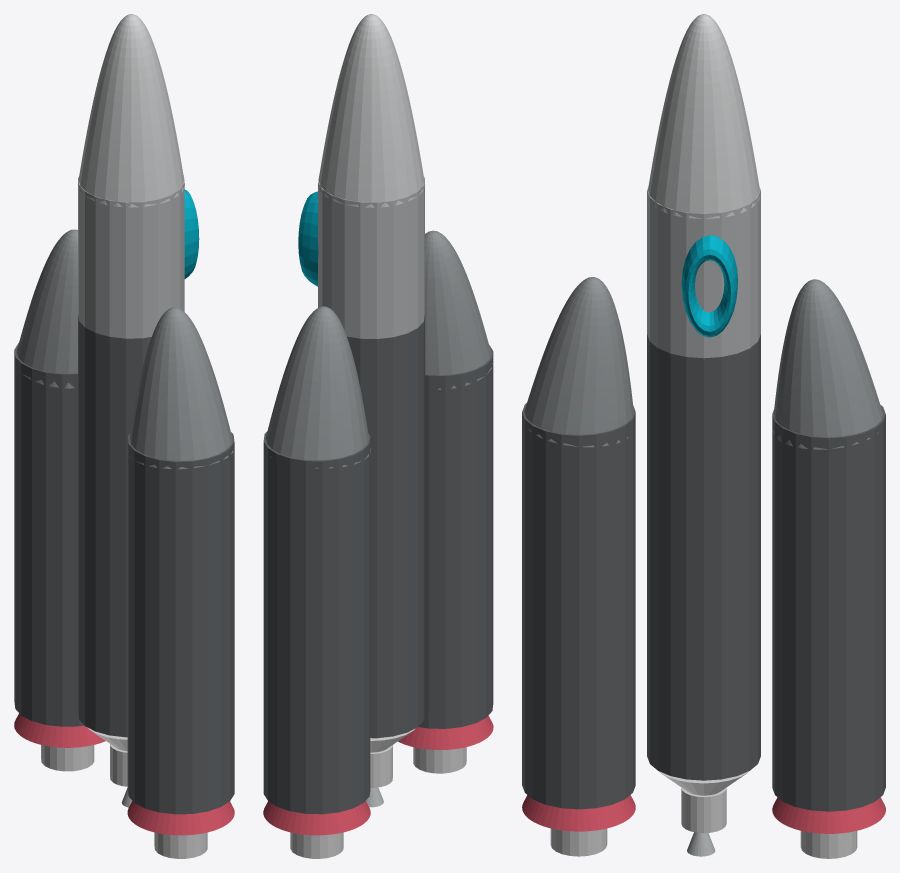
The model's file is Bodacious Bojo-Gaaris.glb.
The picture shows the model from 3 angles, left to right: view 1: azimuth 30°, elevation 25°; view 2: azimuth 150°, elevation 25°; view 3: azimuth 270°, elevation 25°; orthographic projection. The views are drawn at different scales.
Parts seen in each view (by area): view 1: Mesh_Mesh_head_geo.001_lambert2SG.001; view 2: Mesh_Mesh_head_geo.001_lambert2SG.001; view 3: Mesh_Mesh_head_geo.001_lambert2SG.001.
Part boxes in pixels (x1,y1,x2,y2): Mesh_Mesh_head_geo.001_lambert2SG.001: (14, 14, 234, 858); Mesh_Mesh_head_geo.001_lambert2SG.001: (263, 14, 493, 858); Mesh_Mesh_head_geo.001_lambert2SG.001: (522, 14, 885, 858).
Size of the model in its own units: 25 by 162 by 64.
